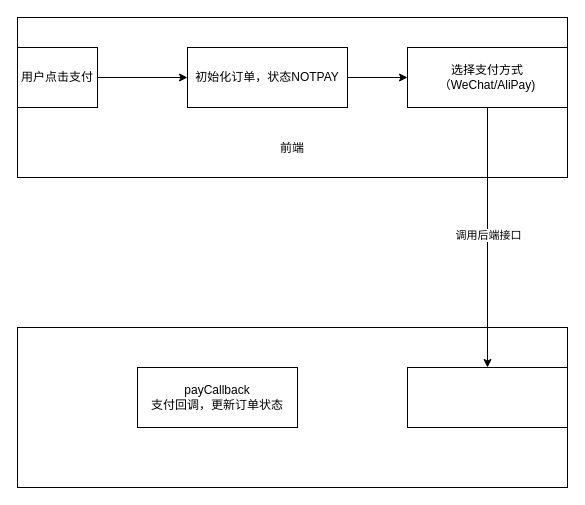
This 585x505 diagram has some shape labels left out. Here are the shapes that lost their labels. From the top down, the box of each, then its label:
(16, 326, 568, 488): 后端
(406, 366, 568, 428): payOrder 根据支付类型请求支付
